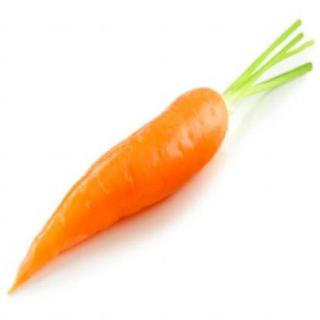carrot: (9, 67, 237, 314)
